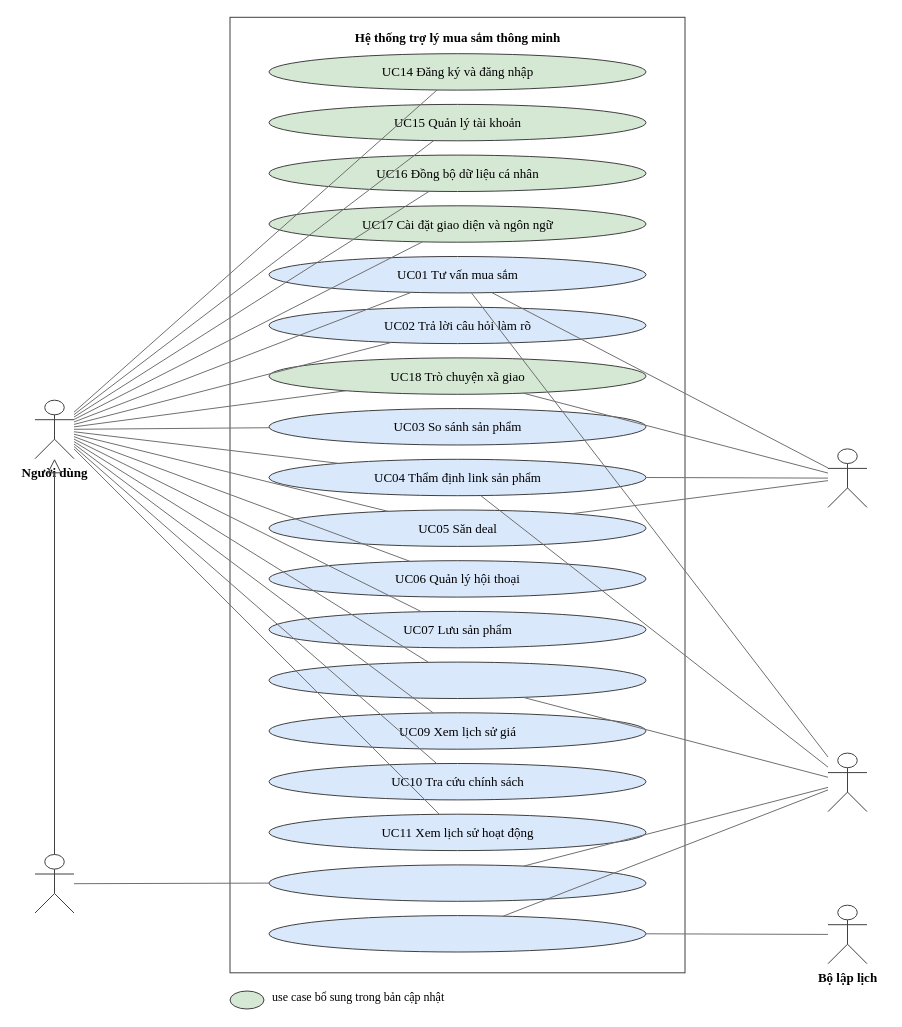
Image size: 902x1027. Some labels were removed from this diagram. The shapes that lost their labels are listed below. From the top down, each one's centre as x and y in pixels, then its label:
the point at 847,477: Dịch vụ LLM
the point at 457,679: UC08 Theo dõi giá
the point at 847,782: Sàn TMĐT
the point at 54,883: Quản trị viên
the point at 457,882: UC12 Quản lý nguồn và kho dữ liệu
the point at 457,933: UC13 Kiểm tra giá định kỳ
